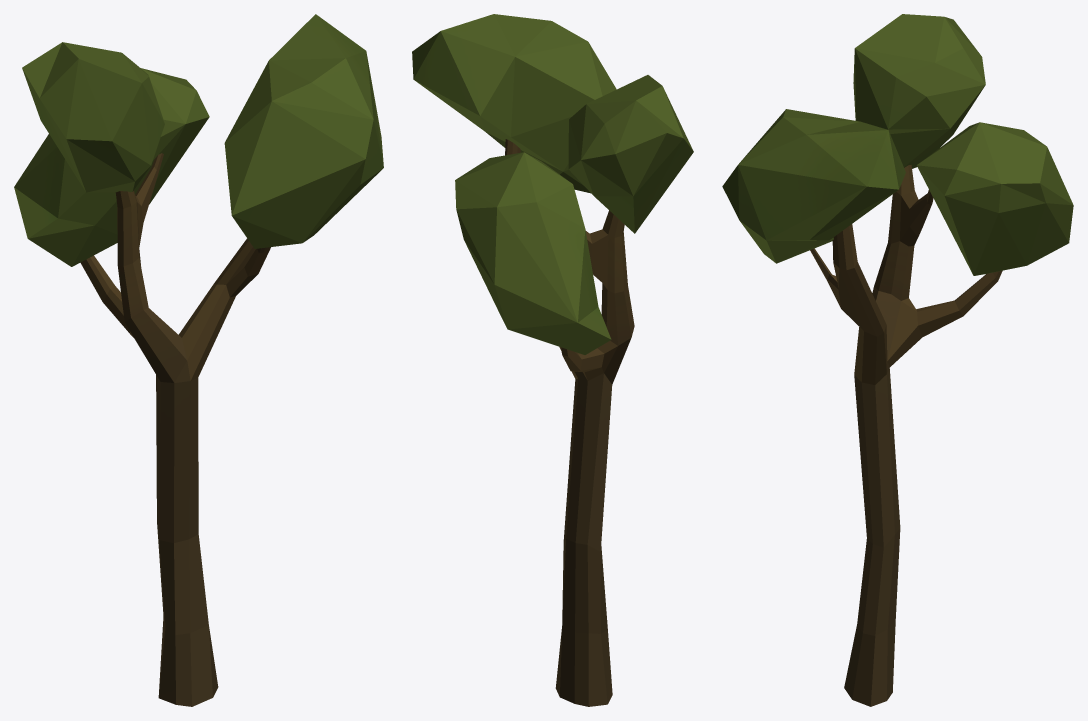
Rendered from Tree2Stage3.fbx.
3 renders of one model, left to right at view 1: azimuth 30°, elevation 25°; view 2: azimuth 150°, elevation 25°; view 3: azimuth 270°, elevation 25°, orthographic. The views are drawn at different scales.
Parts seen in each view (by area): view 1: Tree2Stage3; view 2: Tree2Stage3; view 3: Tree2Stage3.
Part boxes in pixels (bbox=[...]): Tree2Stage3: bbox=[14, 14, 383, 706]; Tree2Stage3: bbox=[412, 14, 693, 706]; Tree2Stage3: bbox=[722, 14, 1073, 706].
Bounding box in the file's own units: 147 × 302 × 152.
